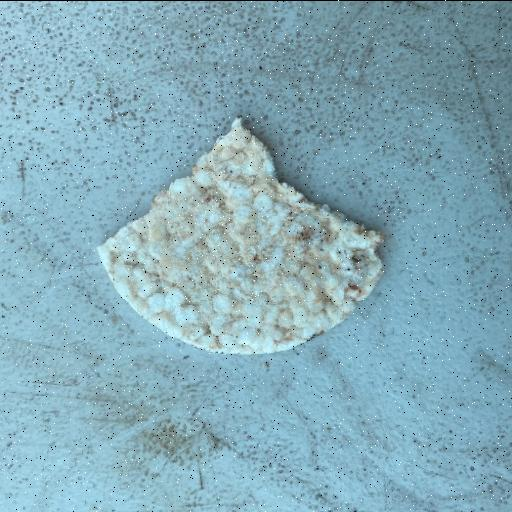Waste: (96, 115, 387, 357)
